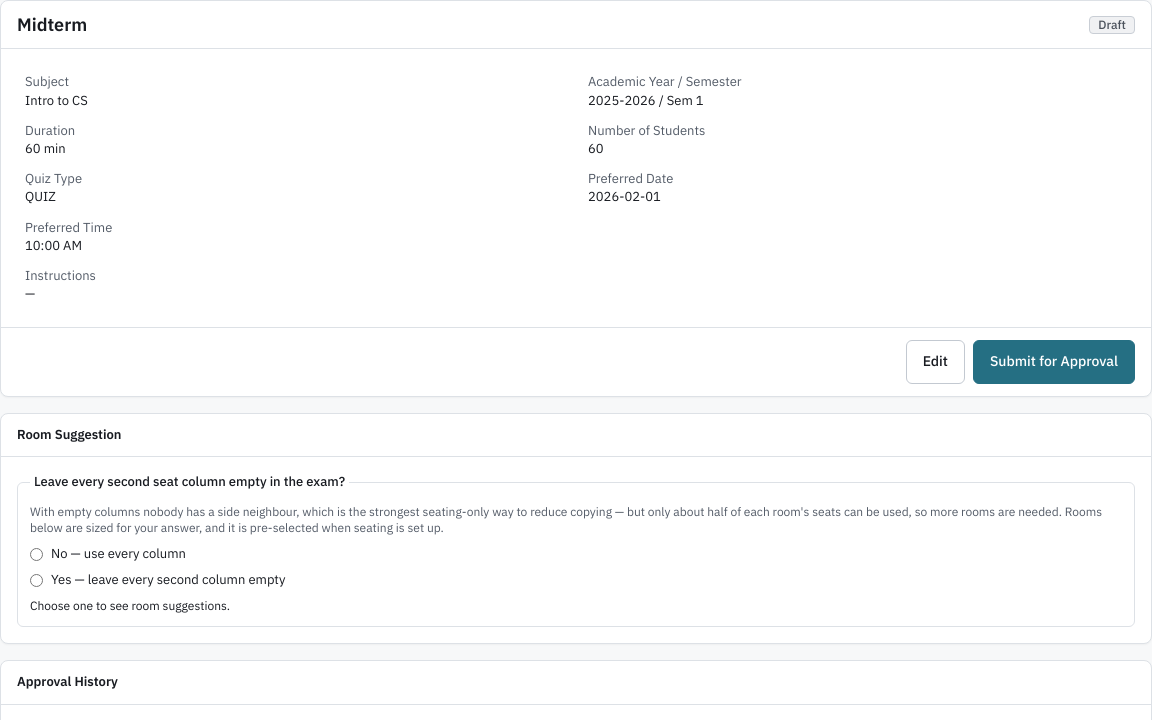
Submit for approval › succeeds for a complete draft
The width and height of the screenshot is (1152, 720).
expect the heading "Midterm" is shown: met, box [17,13,87,36]
Click the button "Submit for Approval" at (1054, 362), box [973,340,1135,384]
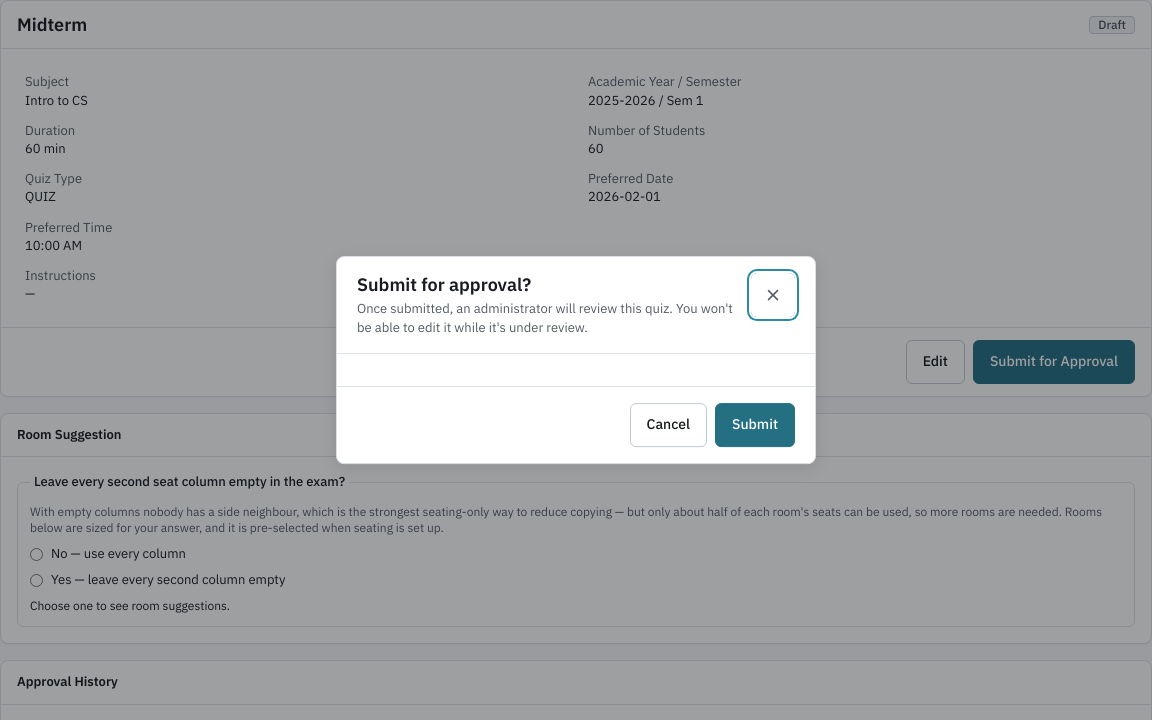
Click the button "Submit" at (755, 425), box [715,403,795,447]
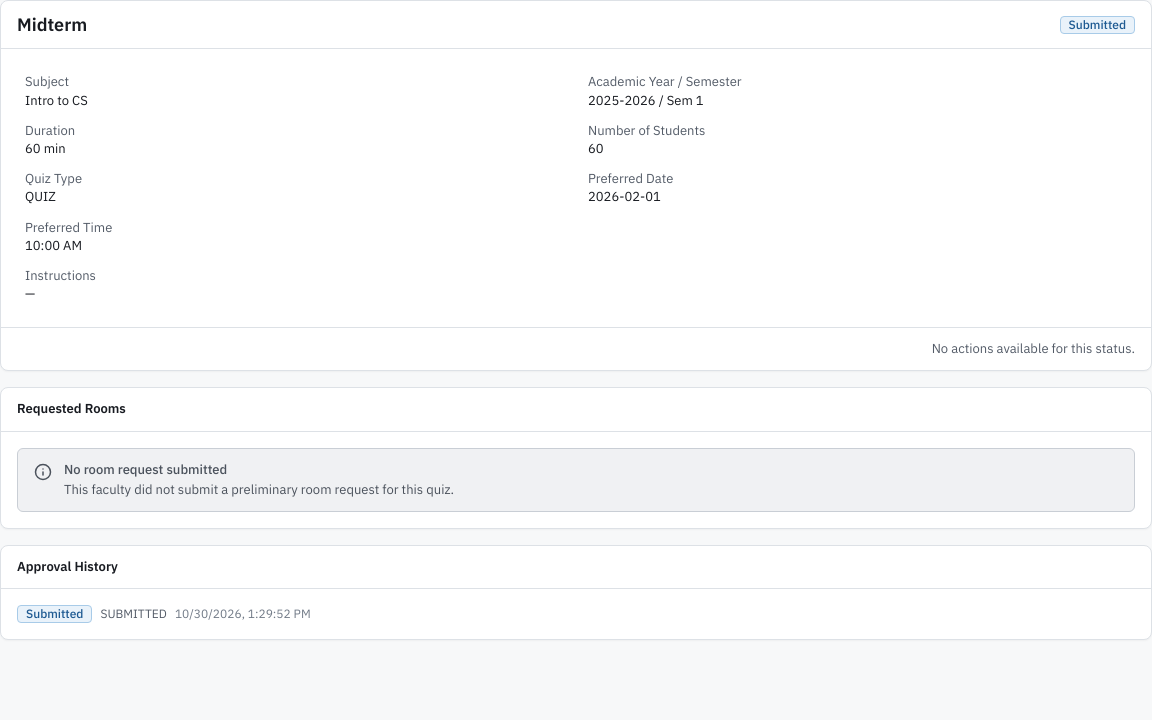
expect the text "Submitted" in the row of "Midterm" is shown: met, box [1069,17,1126,32]
